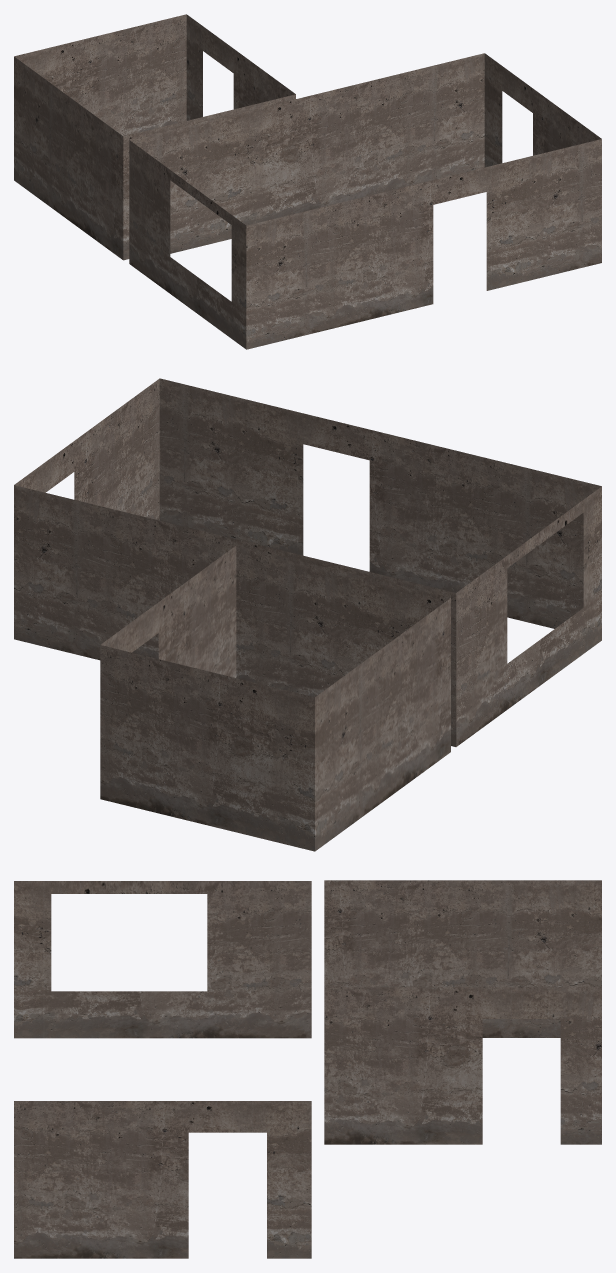
File: RoofArea02_Walls.FBX
3 renders of one model, top to bottom at view 1: azimuth 30°, elevation 25°; view 2: azimuth 150°, elevation 25°; view 3: azimuth 270°, elevation 25°, orthographic. The views are drawn at different scales.
Parts seen in each view (by area): view 1: RoofArea02_Walls; view 2: RoofArea02_Walls; view 3: RoofArea02_Walls.
Part boxes in pixels (x1,y1,x2,y2): RoofArea02_Walls: (14, 14, 601, 349); RoofArea02_Walls: (14, 378, 601, 851); RoofArea02_Walls: (14, 880, 601, 1258).
Bounding box in the file's own units: 836 × 278 × 941.
